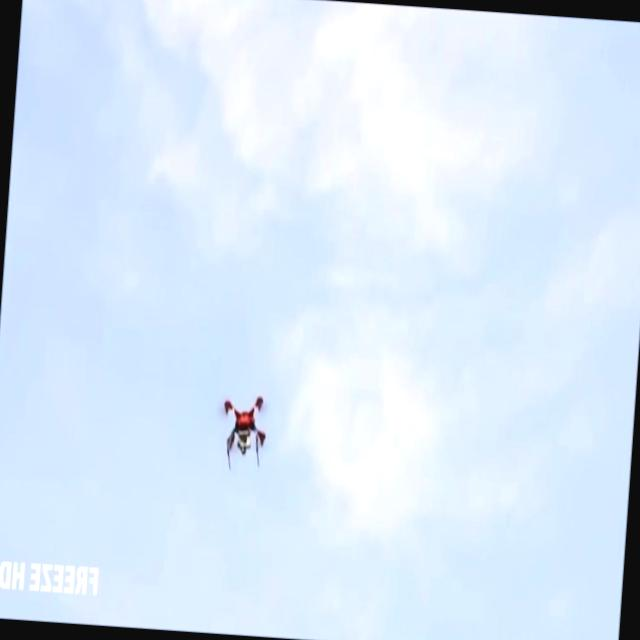drone: (218, 388, 270, 474)
